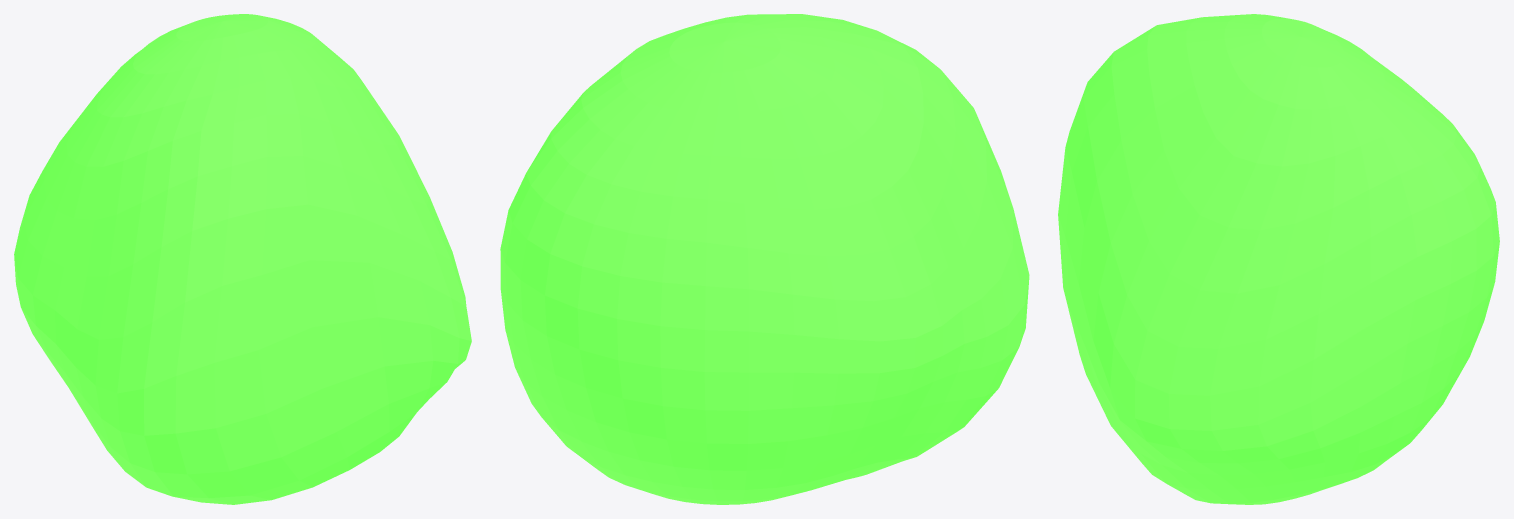
The model's file is GreenGlob1.fbx.
The picture shows the model from 3 angles, left to right: view 1: azimuth 30°, elevation 25°; view 2: azimuth 150°, elevation 25°; view 3: azimuth 270°, elevation 25°; orthographic projection. The views are drawn at different scales.
Parts seen in each view (by area): view 1: Sphere; view 2: Sphere; view 3: Sphere.
Boxes of the visible parts, <box> form: Sphere: <box>14,14,471,504</box>; Sphere: <box>500,14,1029,504</box>; Sphere: <box>1058,14,1499,504</box>.
Size of the model in its own units: 212 by 227 by 209.
